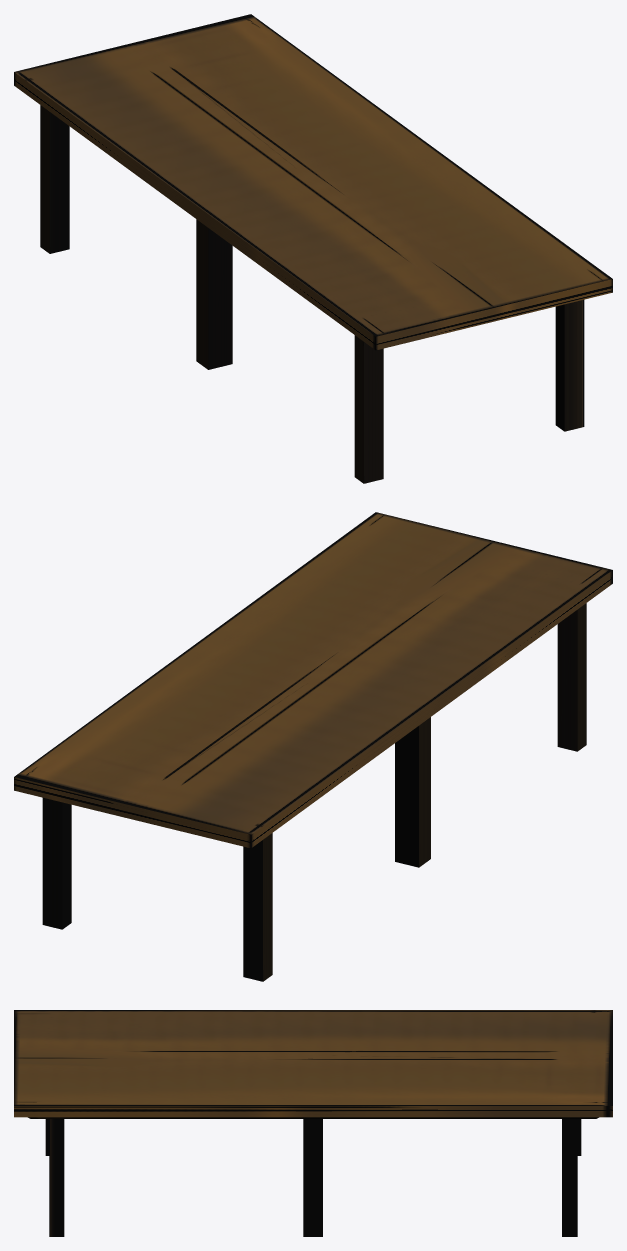
File: table.fbx
The picture shows the model from 3 angles, top to bottom: view 1: azimuth 30°, elevation 25°; view 2: azimuth 150°, elevation 25°; view 3: azimuth 270°, elevation 25°; orthographic projection. The views are drawn at different scales.
Visible parts, largest first — view 1: table; view 2: table; view 3: table.
Boxes of the visible parts, box(x1,y1,x2,y2) form: table: box(14, 14, 612, 483); table: box(14, 512, 612, 981); table: box(14, 1010, 612, 1236).
Bounding box in the file's own units: 1.66 × 1.09 × 4.4.
